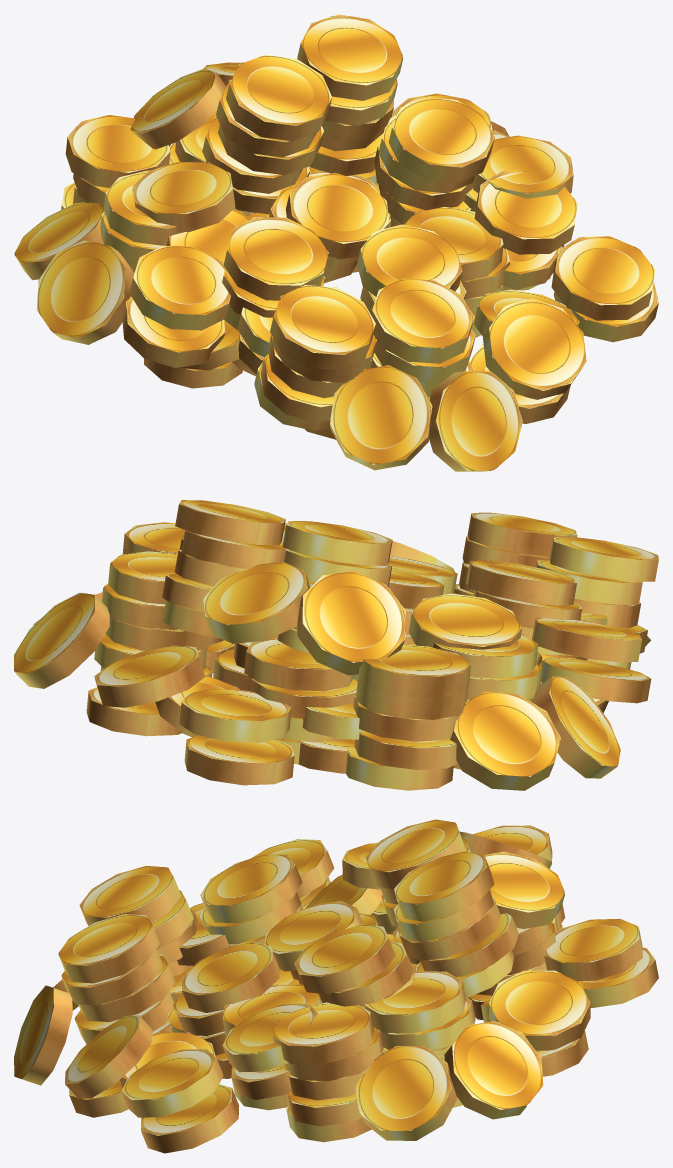
The model's file is coin1.obj.
The picture shows the model from 3 angles, top to bottom: view 1: azimuth 30°, elevation 25°; view 2: azimuth 150°, elevation 25°; view 3: azimuth 270°, elevation 25°; orthographic projection. The views are drawn at different scales.
Size of the model in its own units: 7.83 by 3.78 by 8.56.
